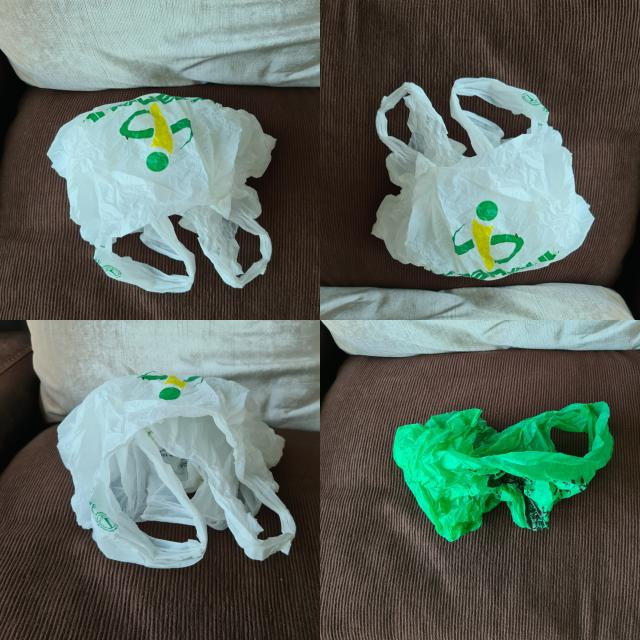Single-layer Plastic: (58, 371, 295, 569), (48, 94, 275, 292), (372, 78, 594, 280), (394, 402, 614, 541)
